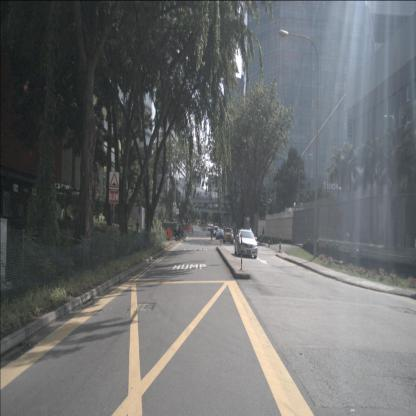human-pedestrian-adult: (136, 218, 139, 237), (210, 227, 214, 241), (262, 226, 265, 238)
vehicle-car: (235, 229, 258, 258), (223, 227, 234, 244), (216, 229, 224, 240), (213, 226, 220, 237), (208, 224, 212, 232)
vehicle-motorcycle: (173, 224, 186, 241)
